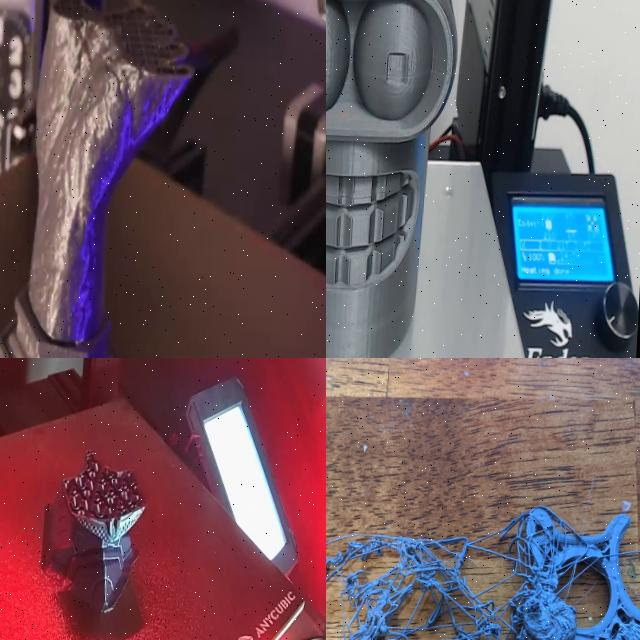spaghetti: (326, 439, 596, 640)
